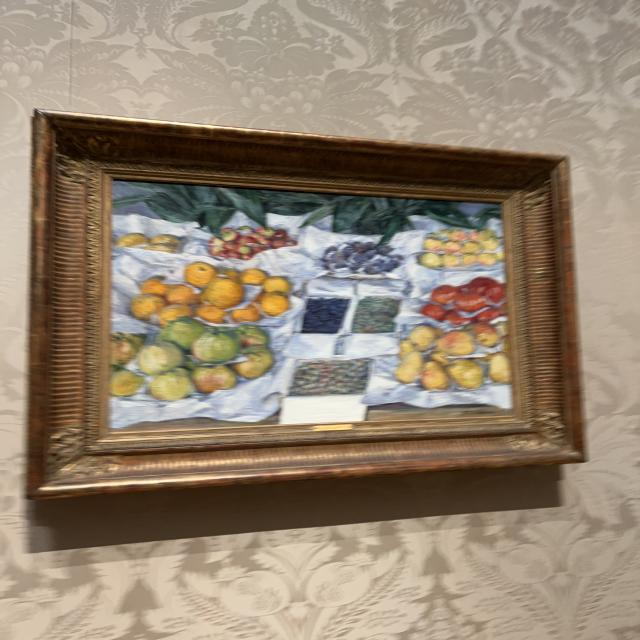fruits: (120, 186, 504, 425)
